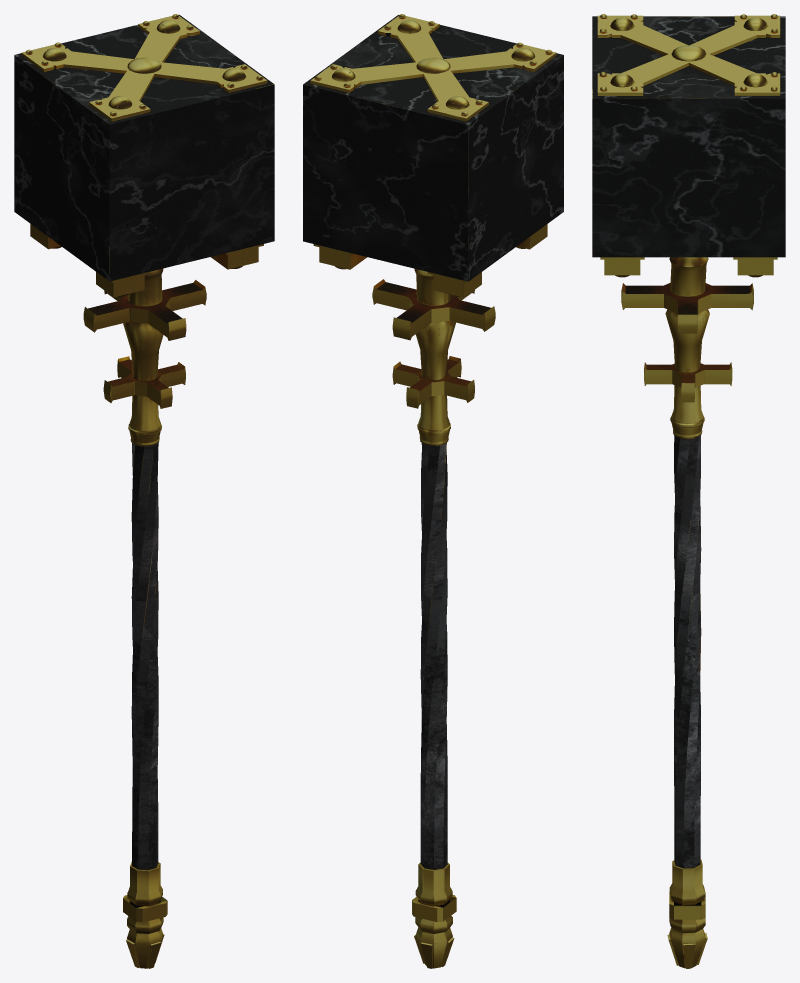
Rendered from greathammer.obj.
The picture shows the model from 3 angles, left to right: view 1: azimuth 30°, elevation 25°; view 2: azimuth 150°, elevation 25°; view 3: azimuth 270°, elevation 25°; orthographic projection.
Parts seen in each view (by area): view 1: Circle.003; view 2: Circle.003; view 3: Circle.003.
Boxes of the visible parts, left/top/right/bottom form: Circle.003: left=14, top=14, right=274, bottom=968; Circle.003: left=303, top=14, right=563, bottom=968; Circle.003: left=592, top=14, right=785, bottom=968.
Bounding box in the file's own units: 0.6045 × 3.16 × 0.6045.
